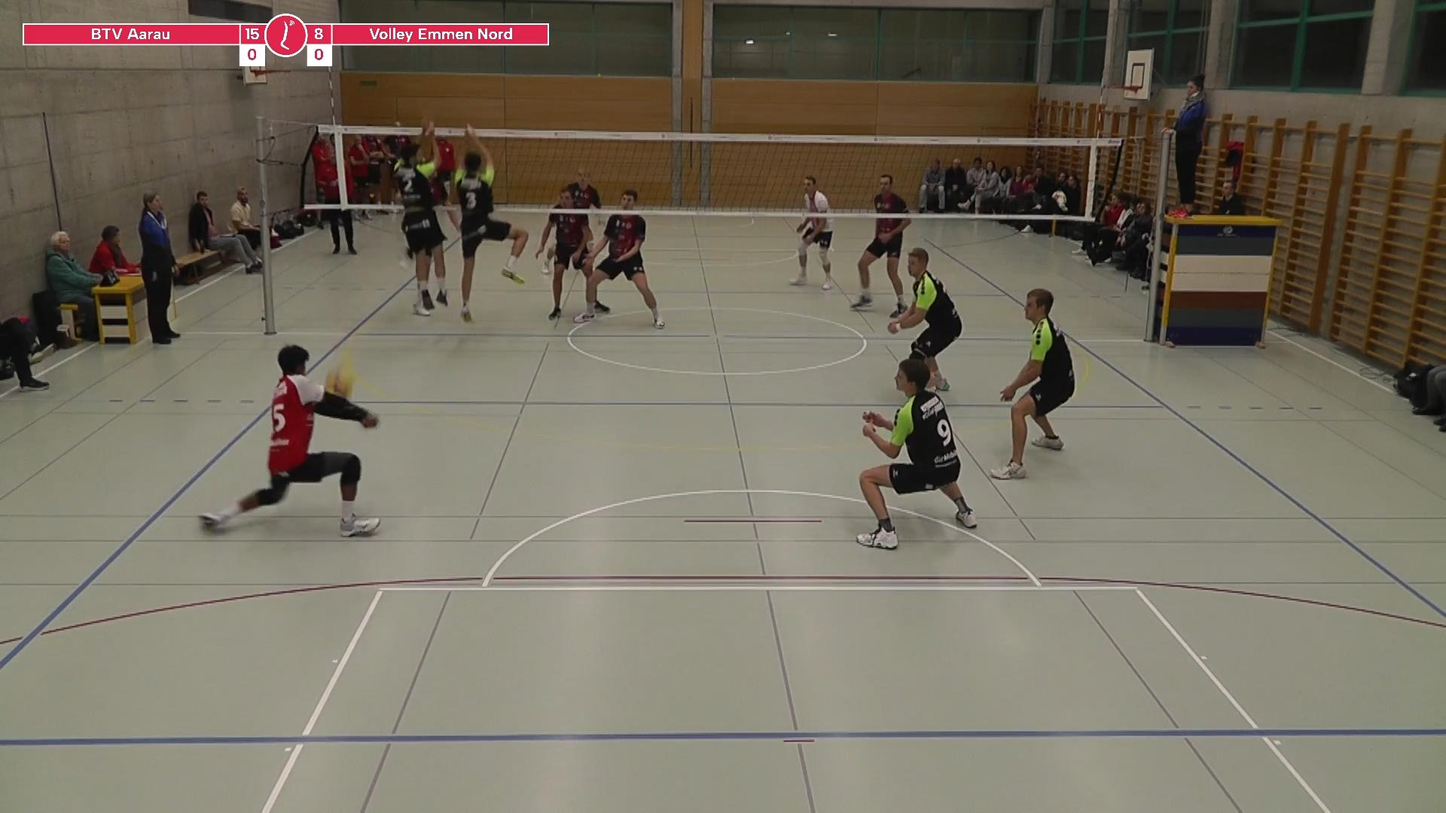difesa: (196, 339, 390, 540)
